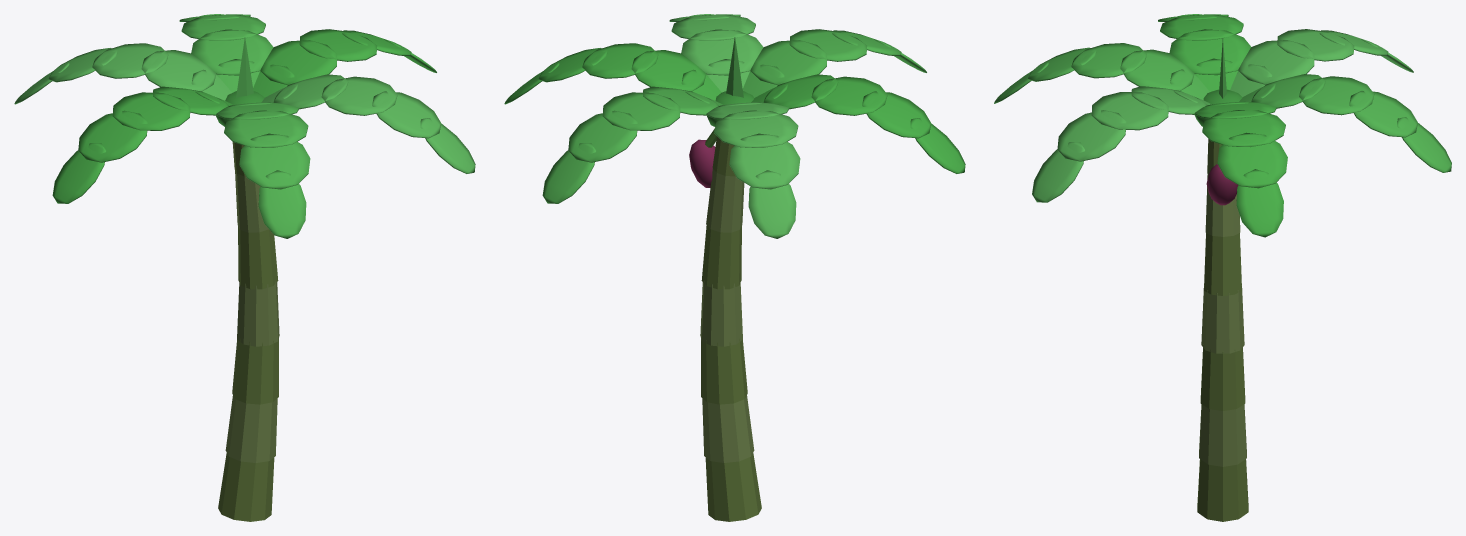
The model's file is Planta_Banana.fbx.
3 renders of one model, left to right at view 1: azimuth 30°, elevation 25°; view 2: azimuth 150°, elevation 25°; view 3: azimuth 270°, elevation 25°, orthographic.
Visible parts, largest first — view 1: Corpo_Banana; view 2: Corpo_Banana; view 3: Corpo_Banana.
Part boxes in pixels (bbox=[...]): Corpo_Banana: bbox=[14, 14, 475, 521]; Corpo_Banana: bbox=[504, 14, 965, 521]; Corpo_Banana: bbox=[994, 14, 1451, 521].
Size of the model in its own units: 5.52 by 6.05 by 5.29.
Materials: 1 (1 with a texture image).
